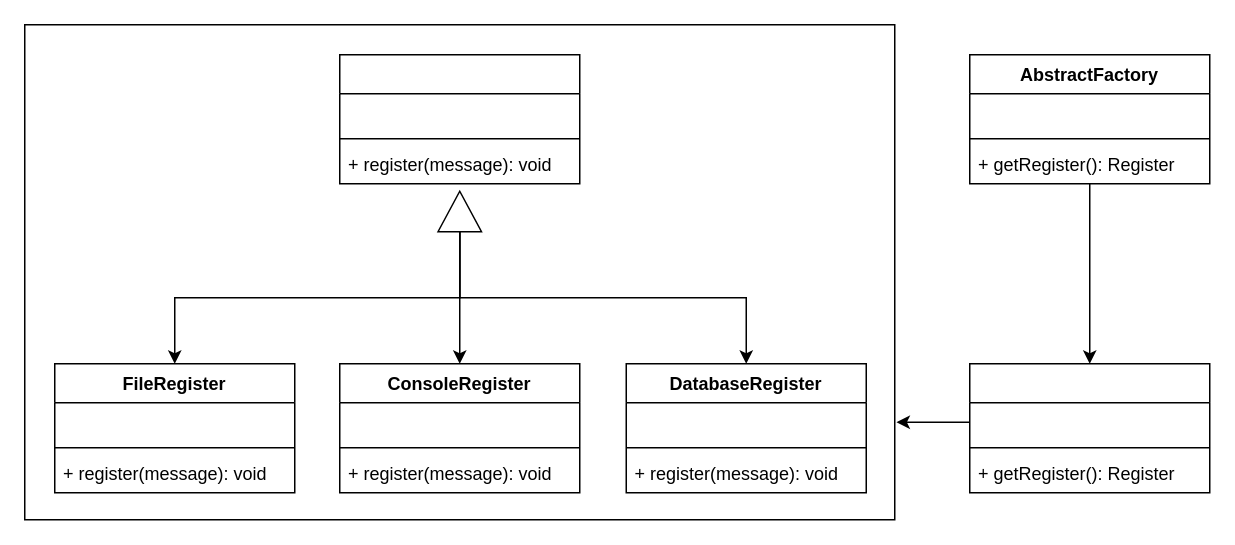
Some shapes in this 1235 by 545 pixel diagram are drawn without their labels. Here are the shapes that lost their labels. From the top down, the box of each, then its label:
(338, 53, 580, 184): Register(Interface)
(968, 362, 1210, 493): RegisterFactory
